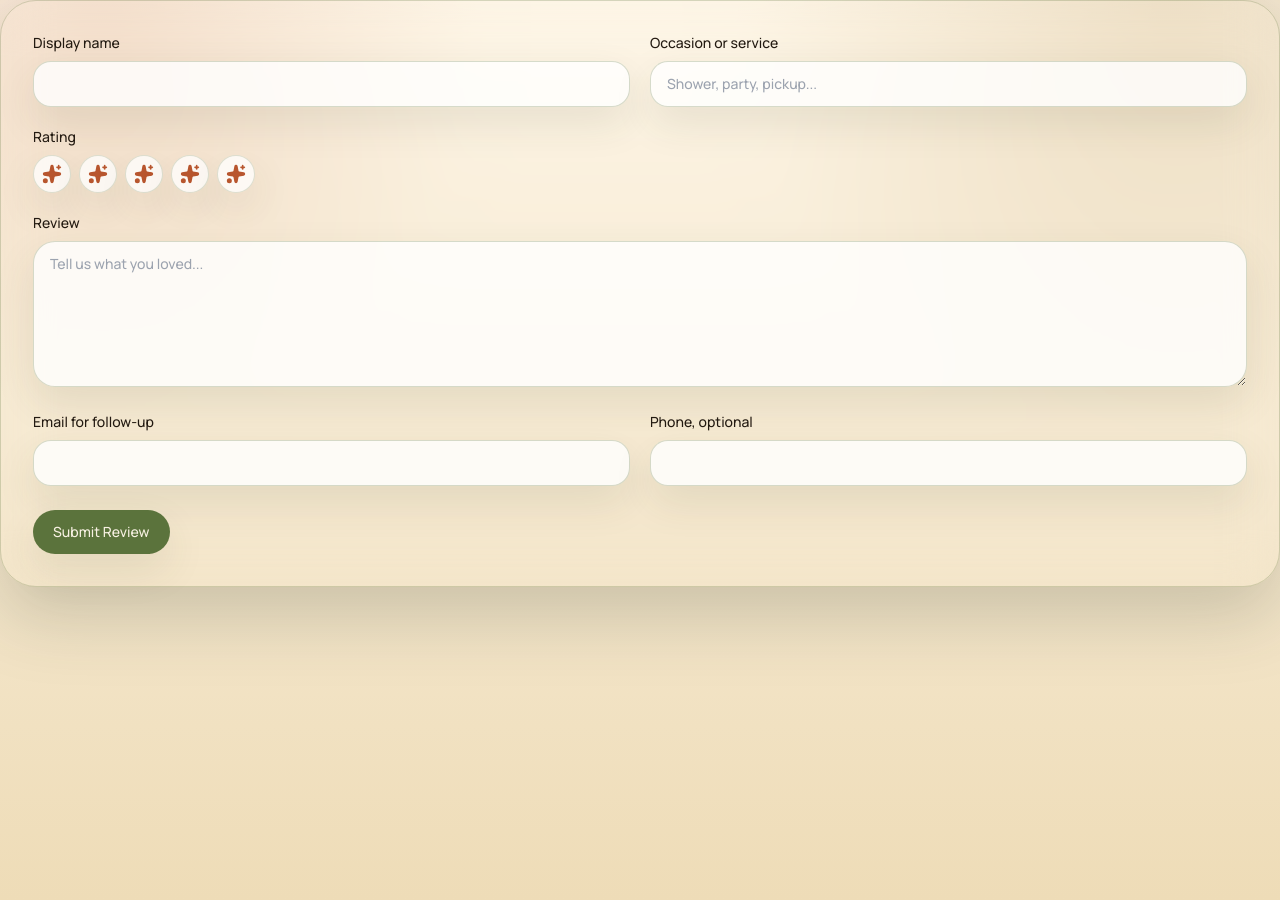
Scenario: ReviewForm › submits a valid review and shows pending approval confirmation
This screenshot has width=1280, height=900.
Type "Avery M." into the field labelled "Display name" at (332, 84), box [33,61,630,107]
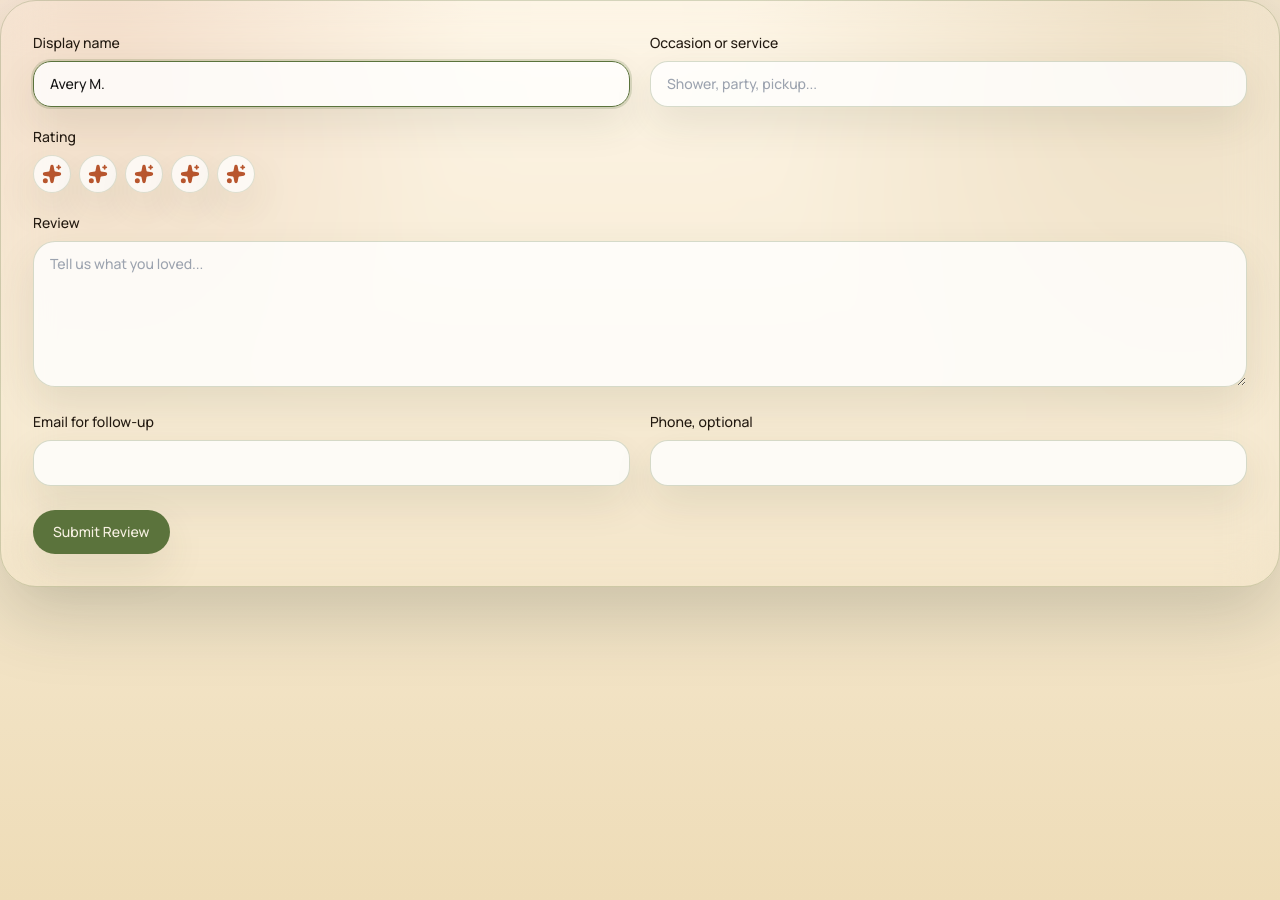
Type "Shower" into the field labelled "Occasion or service" at (948, 84), box [650,61,1247,107]
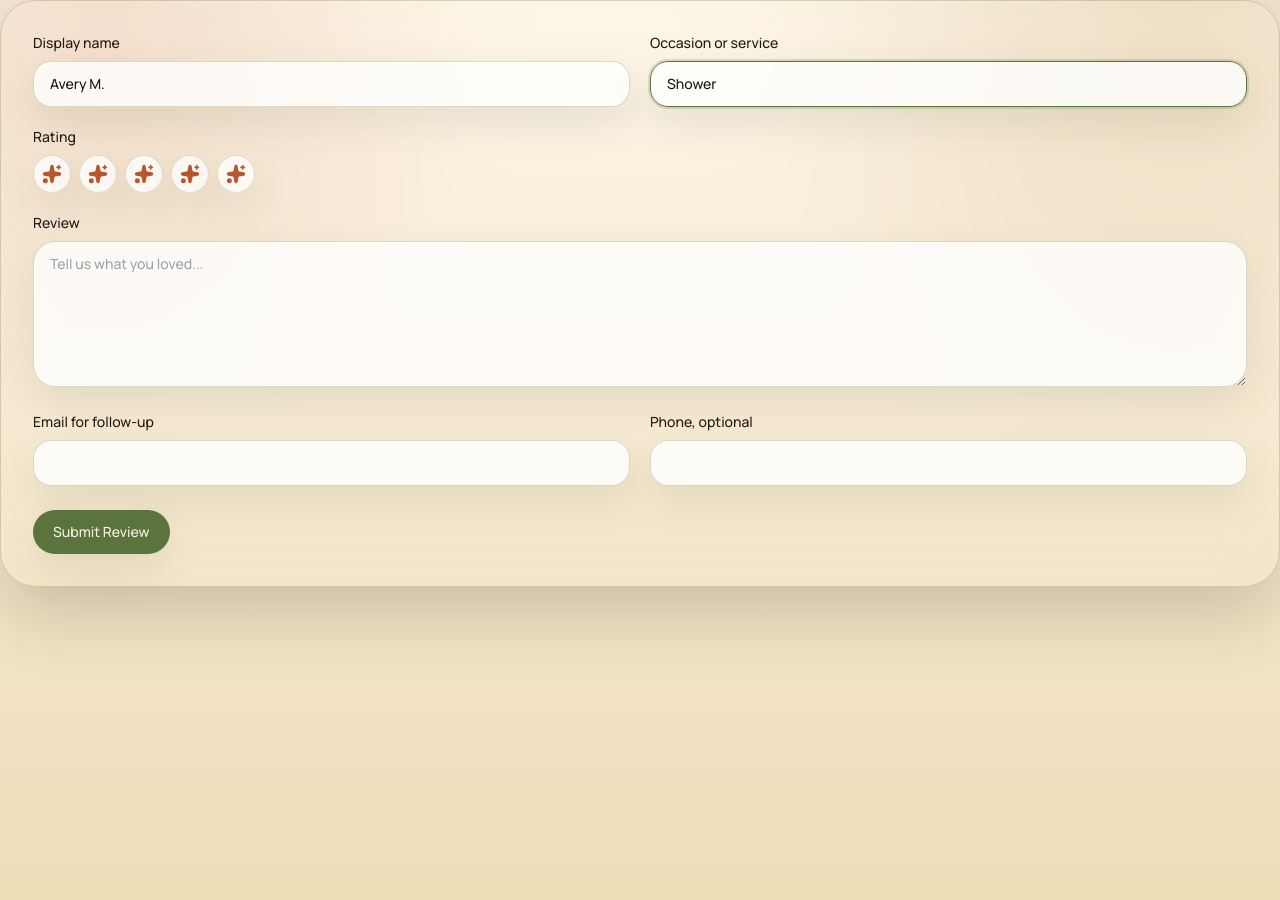
Type "The cart was the best part of the event." into the text box labelled "Review" at (640, 314), box [33,241,1247,387]
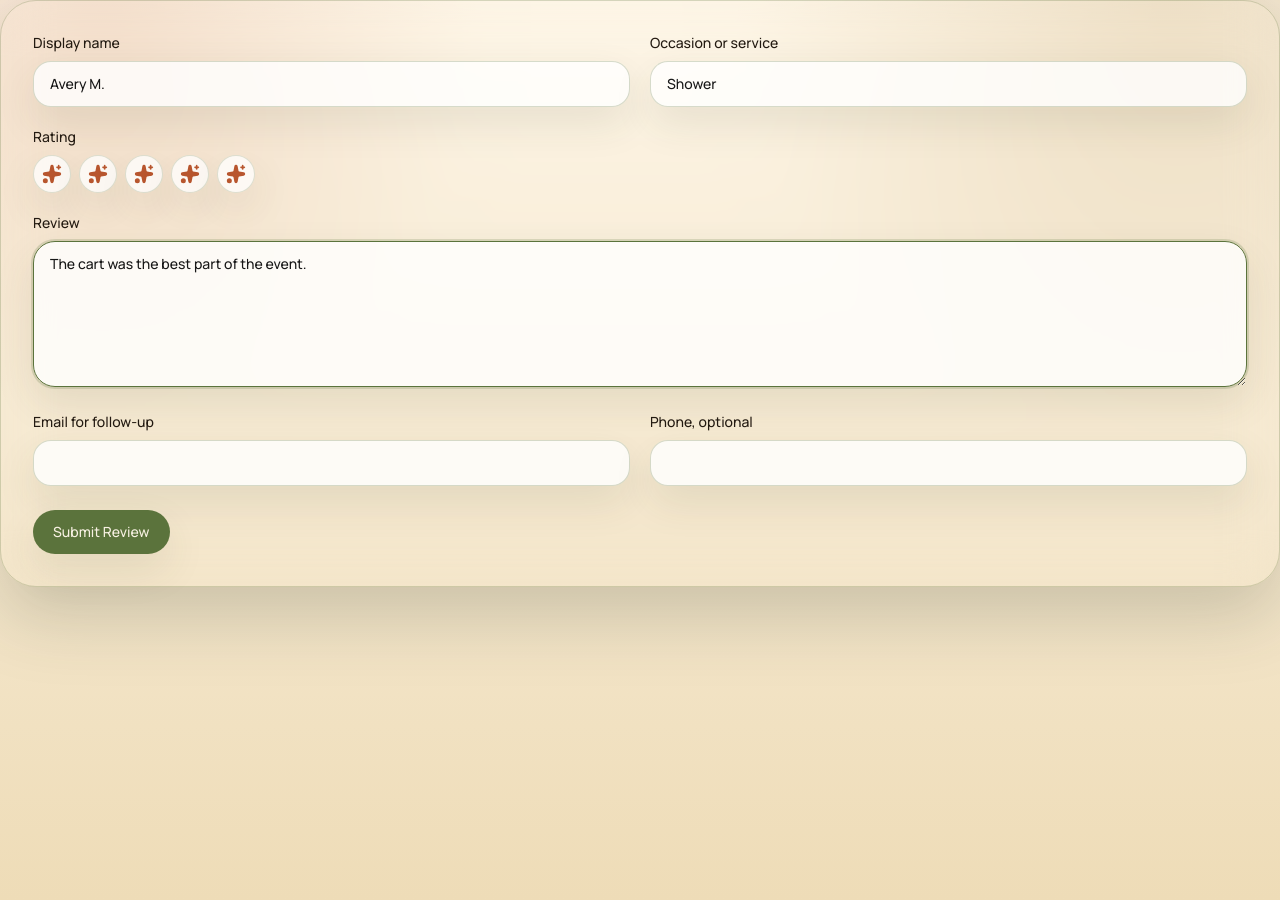
Click the button "Submit Review" at (101, 532), box [33,510,170,554]
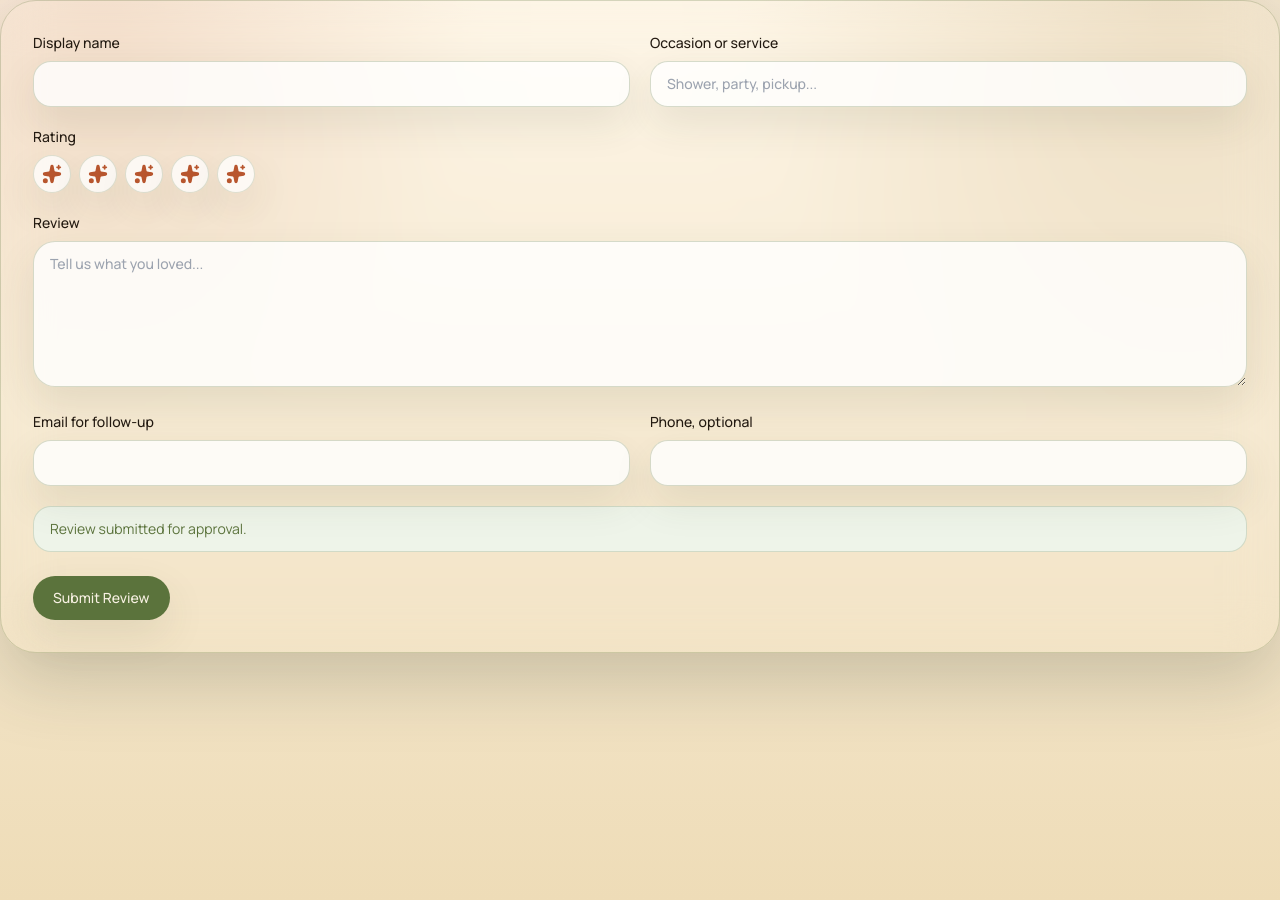
Now the text "Review submitted for approval." is shown, box [33,506,1247,552]
